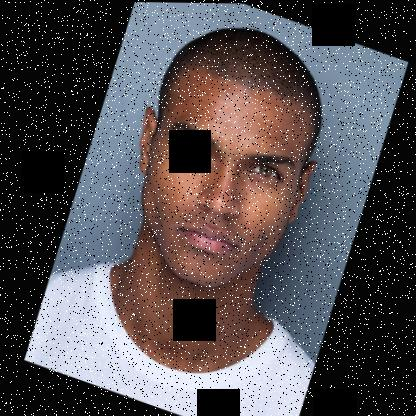Male: (94, 47, 338, 306)
